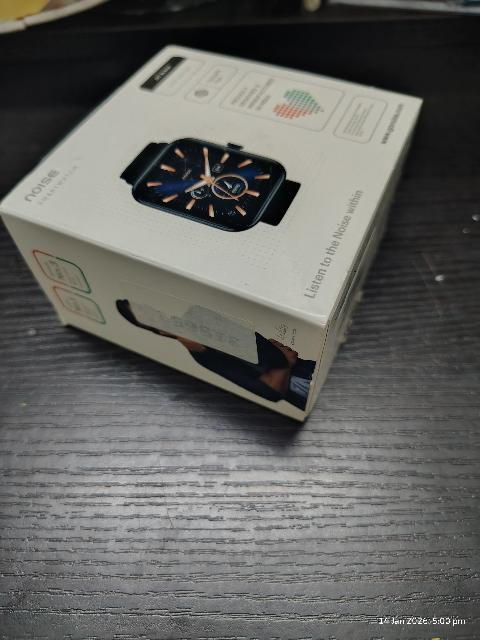noise victor smartwatch: (25, 65, 419, 412)
